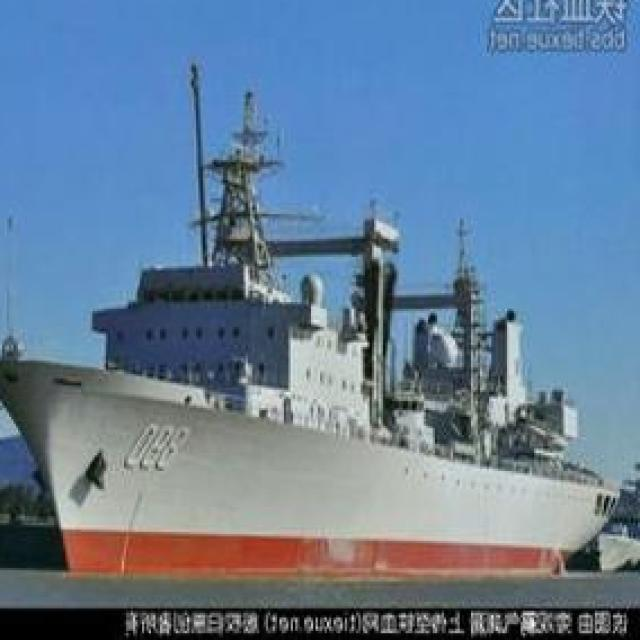navalvessels: (0, 75, 624, 572)
